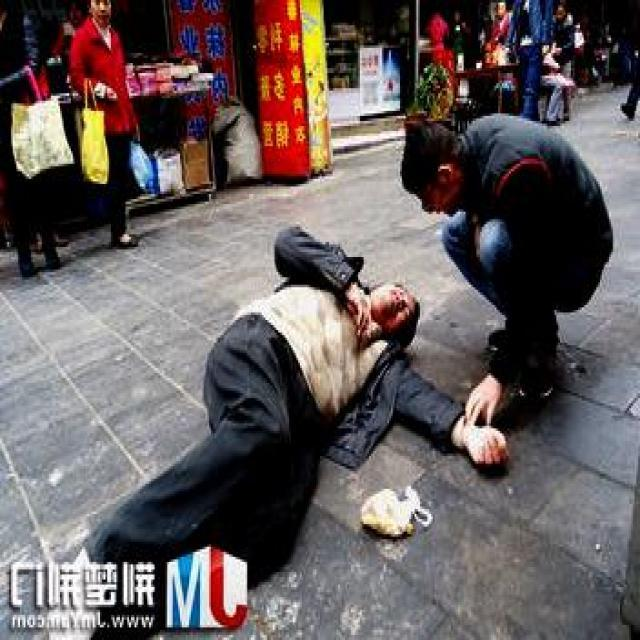fall: (108, 236, 448, 560)
